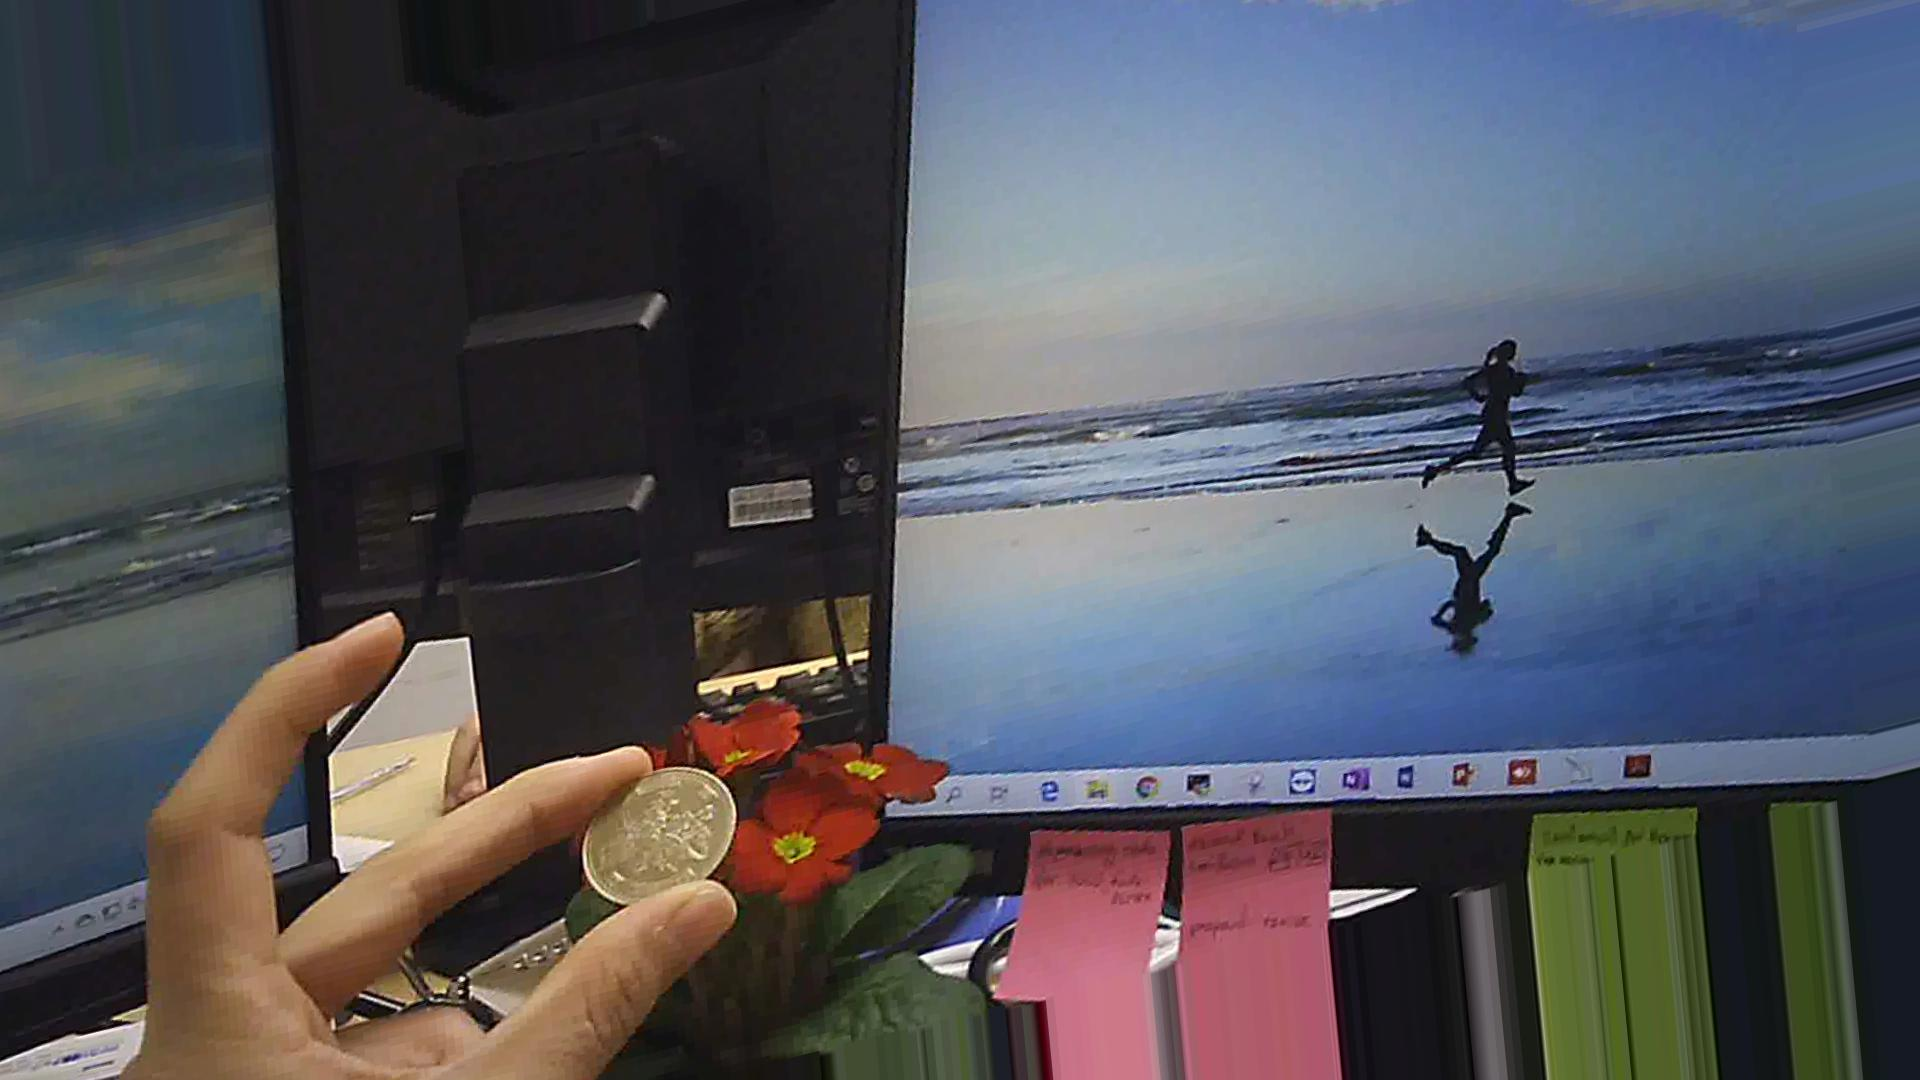500 Yen: (572, 749, 740, 910)
